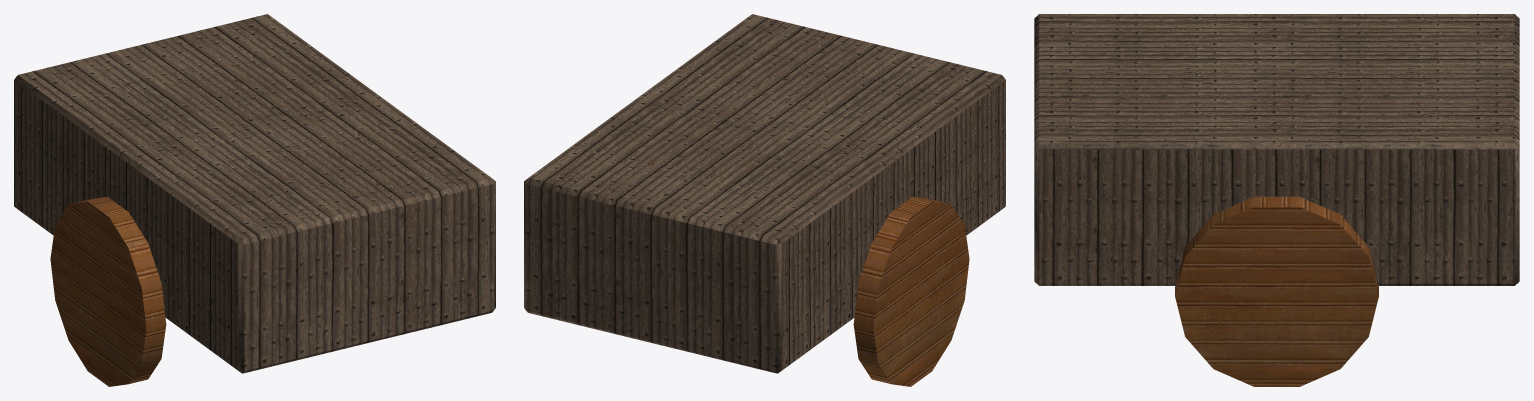
The model's file is prop_cart.glb.
The picture shows the model from 3 angles, left to right: view 1: azimuth 30°, elevation 25°; view 2: azimuth 150°, elevation 25°; view 3: azimuth 270°, elevation 25°; orthographic projection. The views are drawn at different scales.
Parts seen in each view (by area): view 1: PROP_Cart; view 2: PROP_Cart; view 3: PROP_Cart.
Boxes of the visible parts, left/top/right/bottom form: PROP_Cart: left=14, top=14, right=495, bottom=386; PROP_Cart: left=524, top=14, right=1005, bottom=386; PROP_Cart: left=1034, top=14, right=1519, bottom=386.
Bounding box in the file's own units: 1.58 × 1.03 × 2.
2 materials, 2 textured.
